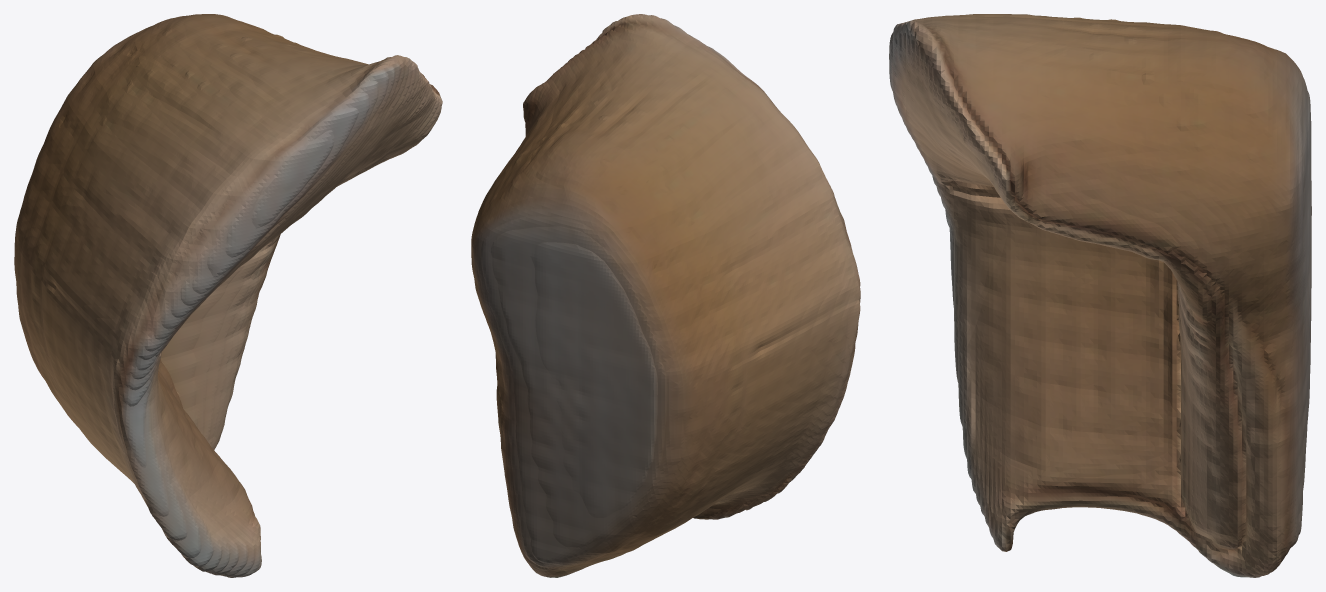
3 views of the same model, side by side, from view 1: azimuth 30°, elevation 25°; view 2: azimuth 150°, elevation 25°; view 3: azimuth 270°, elevation 25° (orthographic). The views are drawn at different scales.
Parts seen in each view (by area): view 1: world; view 2: world; view 3: world.
Part boxes in pixels (x1,y1,x2,y2): world: (14, 14, 442, 577); world: (471, 14, 860, 577); world: (889, 14, 1311, 577).
Size of the model in its own units: 0.7113 by 0.9957 by 0.6609.
